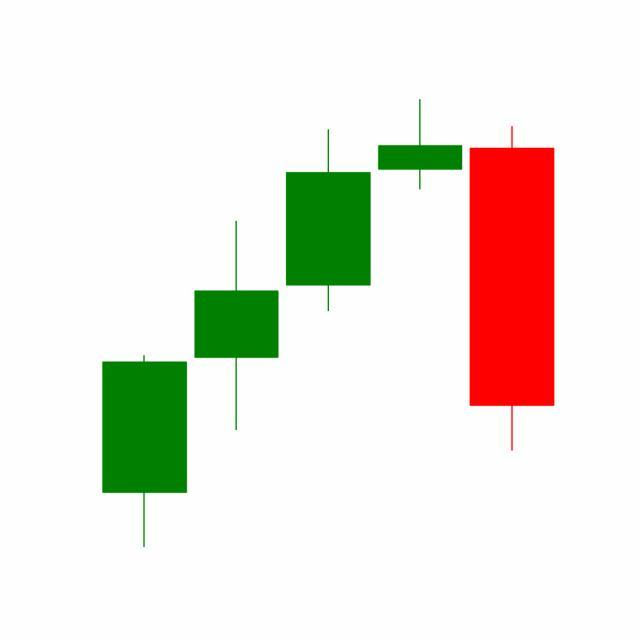Evening Star: (280, 100, 555, 457)
